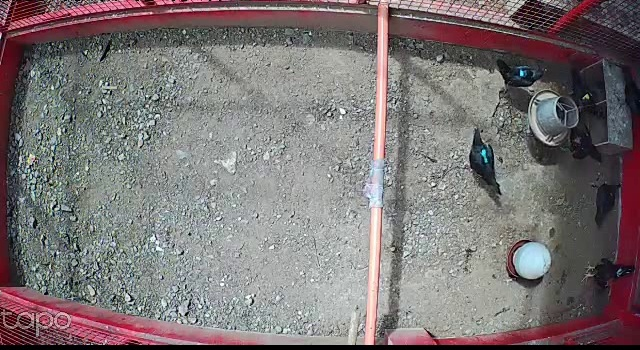Chicken: (562, 63, 613, 124), (469, 125, 503, 194), (497, 60, 550, 95), (559, 125, 600, 164), (592, 179, 623, 226)
Drinker: (505, 236, 551, 284)
Feeder: (528, 89, 583, 147)
Rooster: (579, 254, 633, 297)
Saddle_Color_Blue: (518, 70, 527, 78)
Saddle_Color_Yellow: (580, 93, 592, 101)
